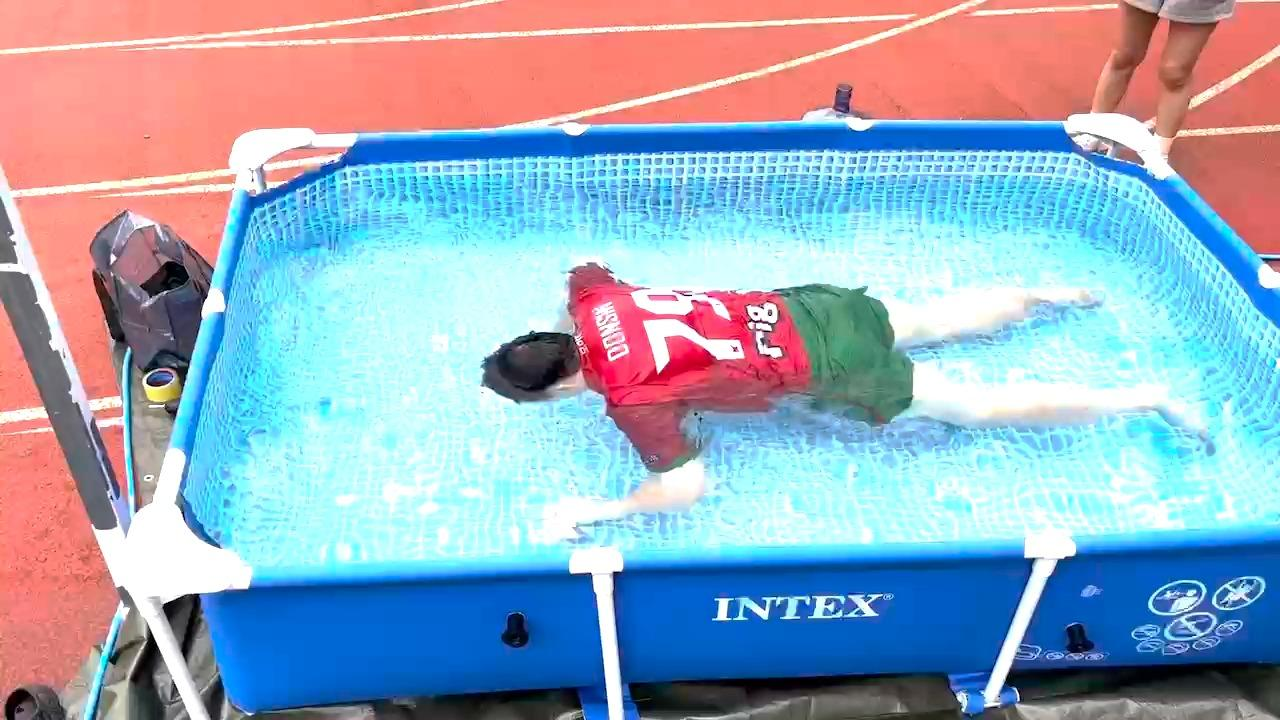Drowning: (420, 233, 1221, 510)
